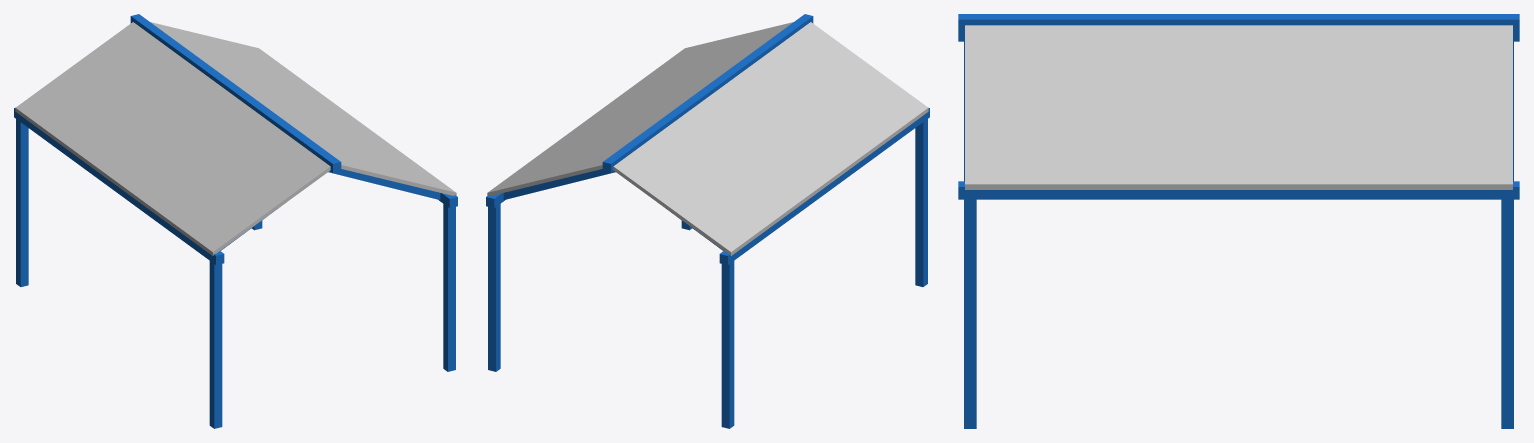
Rendered from SM_roof.fbx.
The picture shows the model from 3 angles, left to right: view 1: azimuth 30°, elevation 25°; view 2: azimuth 150°, elevation 25°; view 3: azimuth 270°, elevation 25°; orthographic projection. The views are drawn at different scales.
Visible parts, largest first — view 1: Cube_18; view 2: Cube_18; view 3: Cube_18.
Boxes of the visible parts, x1=… form: Cube_18: x1=14, y1=14, x2=457, y2=428; Cube_18: x1=486, y1=14, x2=929, y2=428; Cube_18: x1=958, y1=14, x2=1519, y2=428.
Size of the model in its own units: 396 by 370 by 569.
